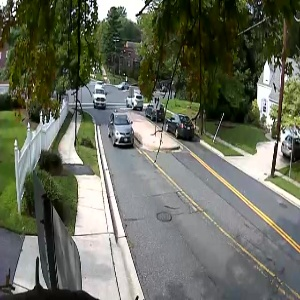car: (104, 102, 141, 154), (161, 110, 204, 141), (279, 134, 300, 164)
suv: (122, 92, 146, 109)
truck: (86, 88, 112, 111)
